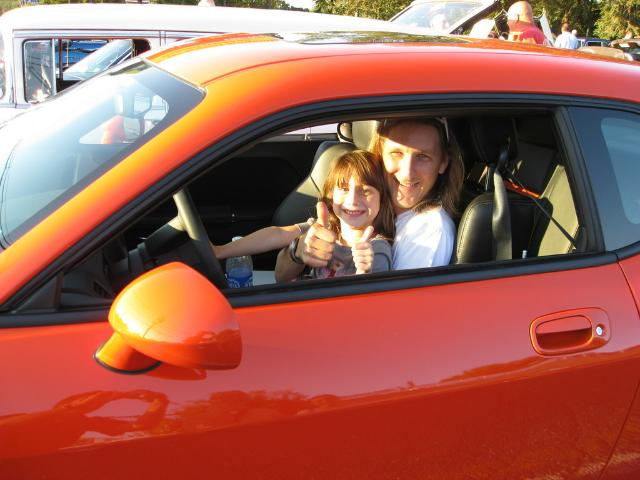Seatbelt: (488, 167, 512, 261)
